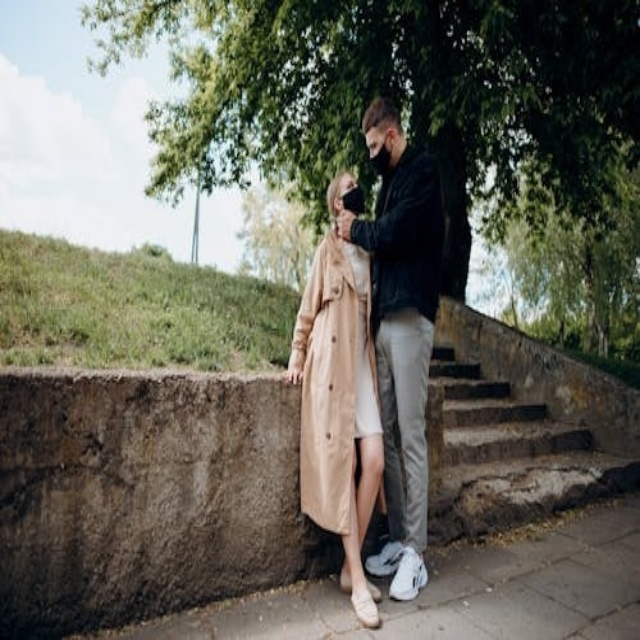Mascara: (371, 137, 392, 177), (342, 186, 365, 215)
Sin_gafas: (366, 125, 384, 156), (338, 177, 356, 192)
Sin_guantes: (279, 338, 306, 390), (334, 215, 353, 238)
